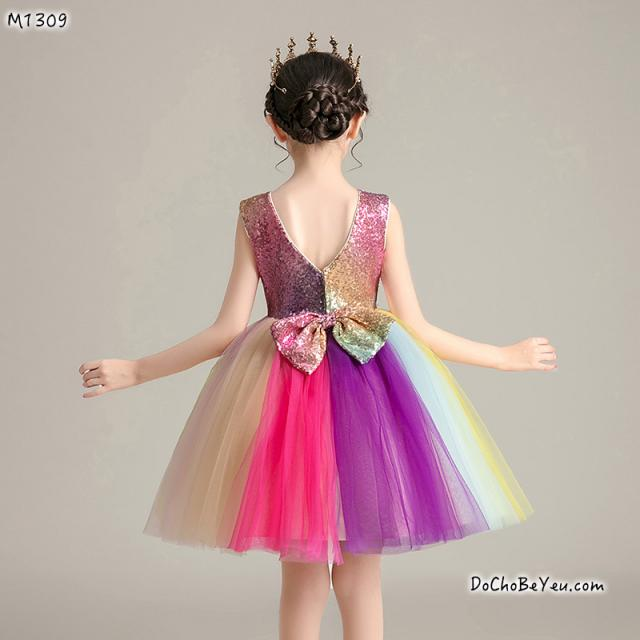clothes: (182, 190, 505, 562)
